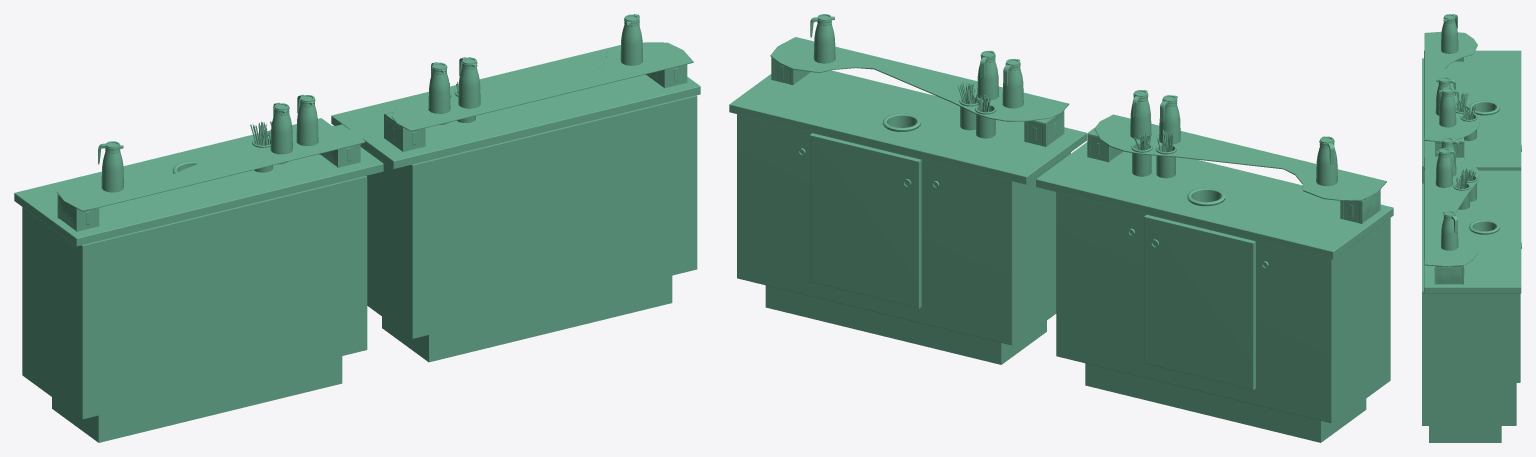
The model's file is SBUtilities.fbx.
3 renders of one model, left to right at view 1: azimuth 30°, elevation 25°; view 2: azimuth 150°, elevation 25°; view 3: azimuth 270°, elevation 25°, orthographic. The views are drawn at different scales.
Visible parts, largest first — view 1: Front_Cab (×2), Front_CabTop1 (×2), pCube159 (×2), CoffeePot02 (×2), CoffeePot01 (×2), CoffeePot00 (×2), NapkinDispenser01, NapkinDispenser00; view 2: Front_Cab (×2), Front_CabTop1 (×2), CabDoor (×2), pCube159 (×2), CoffeePot02 (×2), CoffeePot00 (×2), CoffeePot01 (×2), NapkinDispenser01 (×2), NapkinDispenser00; view 3: Front_Cab (×2), Front_CabTop1 (×2), pCube159 (×2), CoffeePot02 (×2), CoffeePot01 (×2), CoffeePot00 (×2), pCylinder119 (×2), NapkinDispenser00, CabDoor, pCylinder120 (×2), Straws00 (×2), NapkinDispenser01 (+2 smaller).
Part boxes in pixels (<box>): Front_Cab (×2): <box>22,95,697,442</box>; Front_CabTop1 (×2): <box>14,45,700,246</box>; pCube159 (×2): <box>56,42,693,211</box>; CoffeePot02 (×2): <box>98,14,643,192</box>; CoffeePot01 (×2): <box>270,57,480,154</box>; CoffeePot00 (×2): <box>296,62,450,145</box>; NapkinDispenser01: <box>384,111,425,151</box>; NapkinDispenser00: <box>57,194,99,231</box>; Front_Cab (×2): <box>737,114,1390,442</box>; Front_CabTop1 (×2): <box>729,70,1393,259</box>; CabDoor (×2): <box>810,133,1255,389</box>; pCube159 (×2): <box>770,37,1386,200</box>; CoffeePot02 (×2): <box>810,14,1337,185</box>; CoffeePot00 (×2): <box>1002,59,1151,139</box>; CoffeePot01 (×2): <box>977,50,1180,144</box>; NapkinDispenser01 (×2): <box>1024,110,1123,162</box>; NapkinDispenser00: <box>1340,189,1380,223</box>; Front_Cab (×2): <box>1422,58,1516,442</box>; Front_CabTop1 (×2): <box>1424,50,1521,293</box>; pCube159 (×2): <box>1424,31,1479,266</box>; CoffeePot02 (×2): <box>1441,14,1458,250</box>; CoffeePot01 (×2): <box>1435,77,1455,187</box>; CoffeePot00 (×2): <box>1439,87,1459,176</box>; pCylinder119 (×2): <box>1469,100,1499,234</box>; NapkinDispenser00: <box>1434,265,1464,284</box>; CabDoor: <box>1516,293,1520,382</box>; pCylinder120 (×2): <box>1460,113,1477,201</box>; Straws00 (×2): <box>1456,92,1468,188</box>; NapkinDispenser01: <box>1435,137,1464,157</box>.
Bounding box in the file's own units: 8.84 × 3.82 × 1.57.
